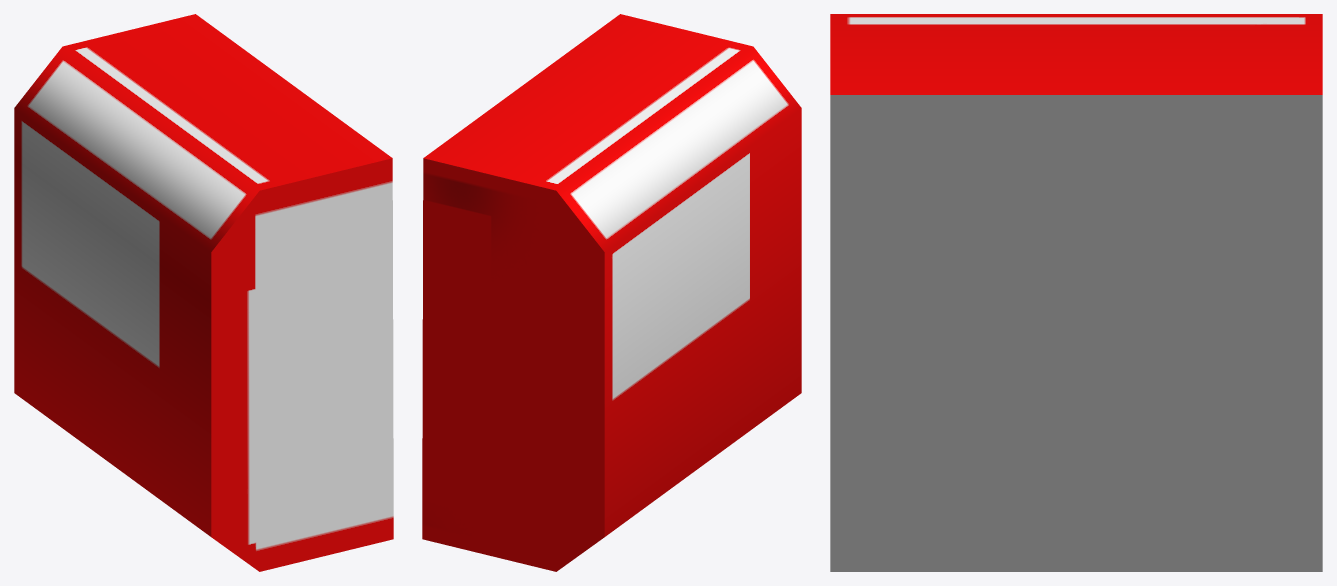
Rendered from gold_cube_halved_uv1.fbx.
3 views of the same model, side by side, from view 1: azimuth 30°, elevation 25°; view 2: azimuth 150°, elevation 25°; view 3: azimuth 270°, elevation 25° (orthographic). The views are drawn at different scales.
Visible parts, largest first — view 1: polySurface1; view 2: polySurface1; view 3: polySurface1.
Part boxes in pixels (x1,y1,x2,y2): polySurface1: (14,14,393,571); polySurface1: (422,14,801,571); polySurface1: (830,14,1322,571).
Bounding box in the file's own units: 4.81 × 9.6 × 8.99.
2 materials, 1 textured.
